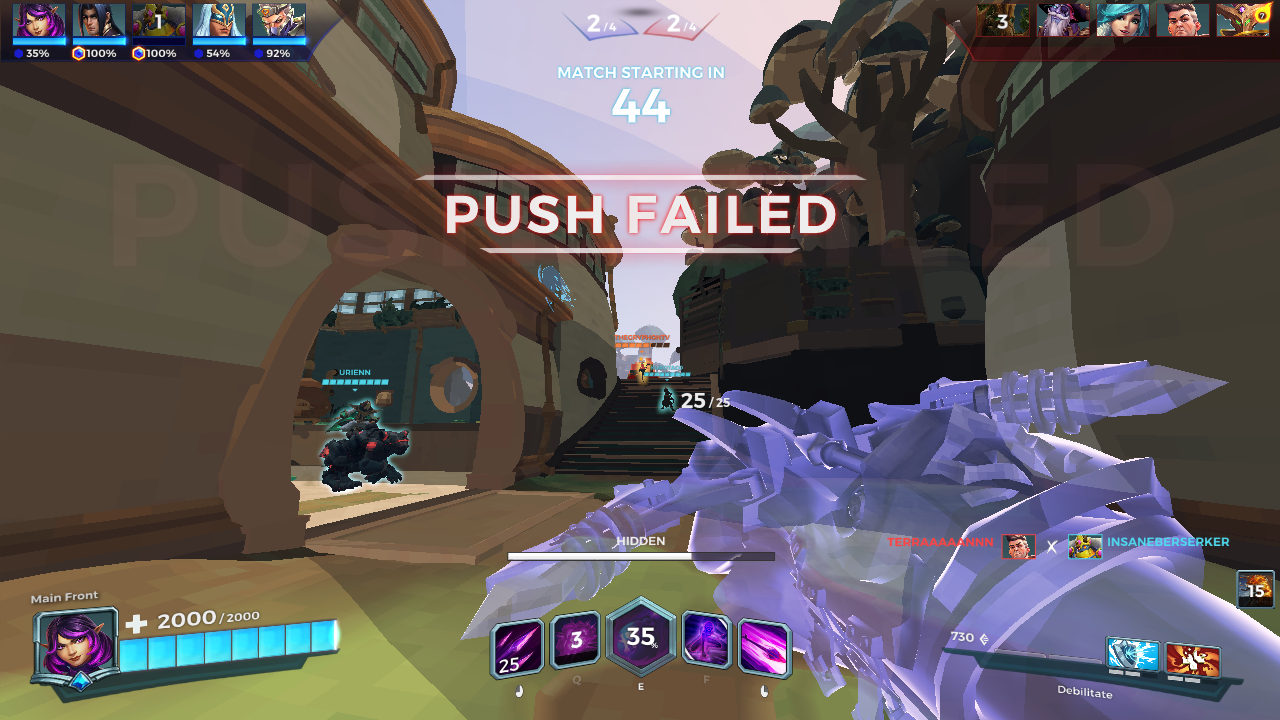model: (633, 356, 652, 382)
